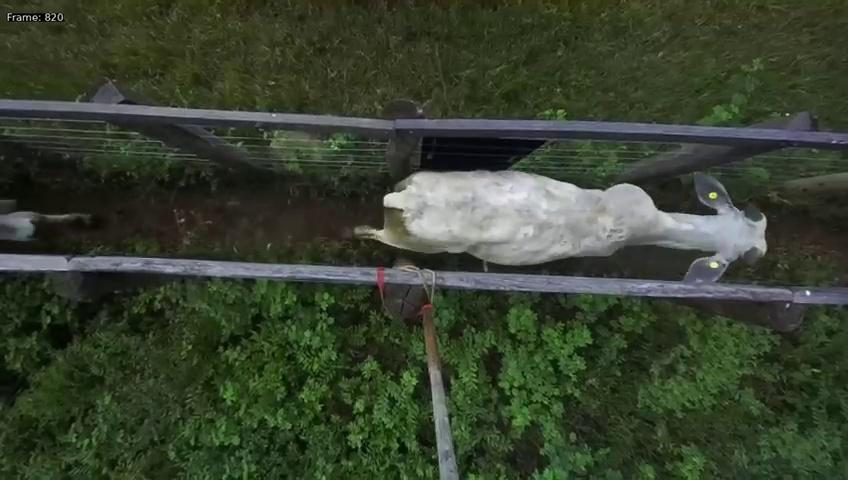cattle: (339, 145, 770, 298)
